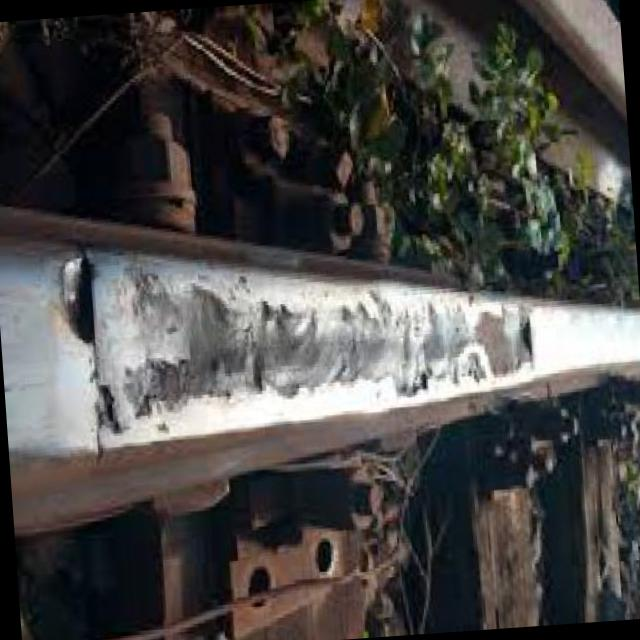defective: (11, 170, 638, 524)
